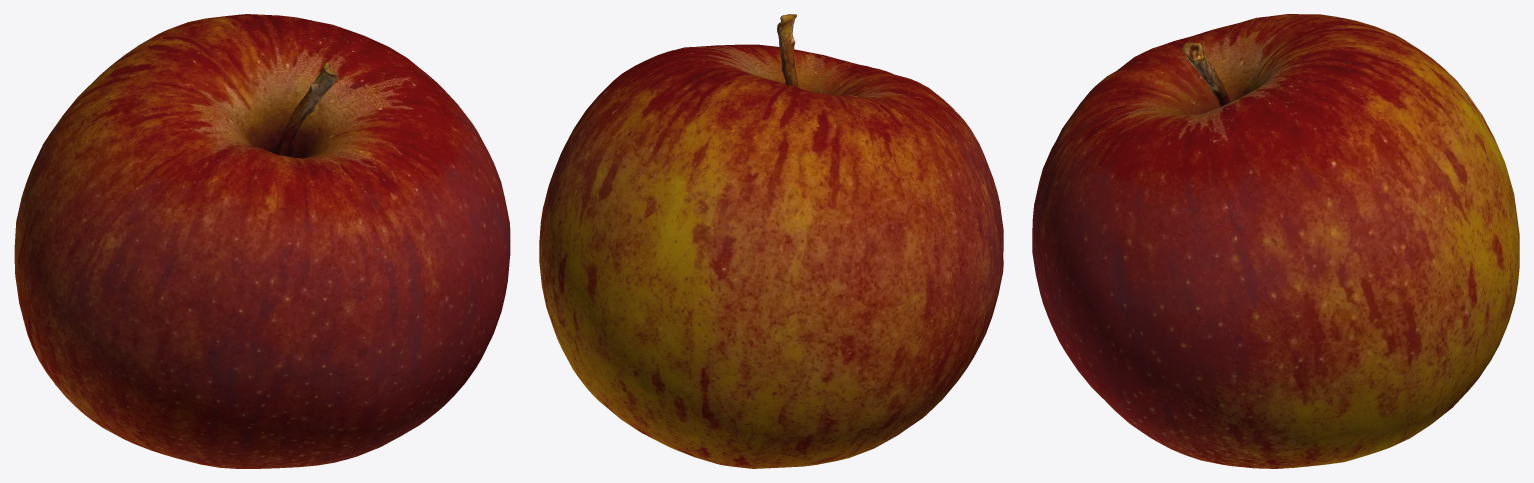
File: food_apple_01_4k-transformed.glb
3 views of the same model, side by side, from view 1: azimuth 30°, elevation 25°; view 2: azimuth 150°, elevation 25°; view 3: azimuth 270°, elevation 25° (orthographic). The views are drawn at different scales.
Parts seen in each view (by area): view 1: food_apple_01; view 2: food_apple_01; view 3: food_apple_01.
Part boxes in pixels (x1,y1,x2,y2): food_apple_01: (14,14,510,468); food_apple_01: (539,14,1003,468); food_apple_01: (1032,14,1519,468).
Size of the model in its own units: 0.0976 by 0.0854 by 0.0959.
1 material, 1 textured.
